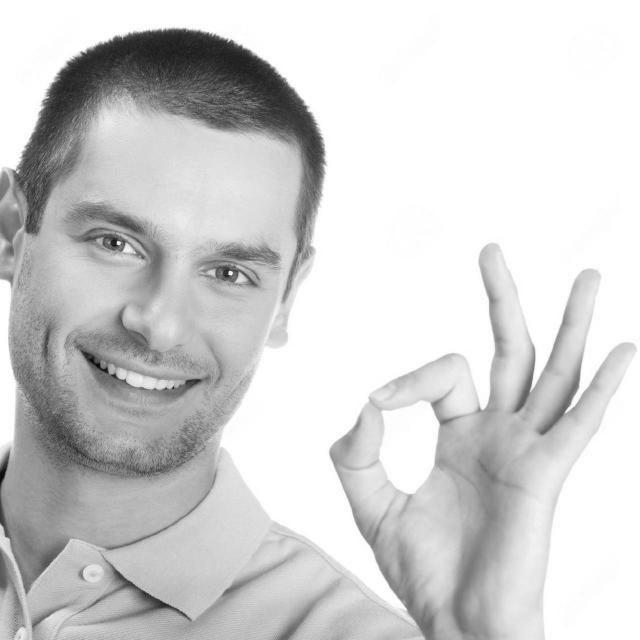perfect: (323, 233, 640, 640)
